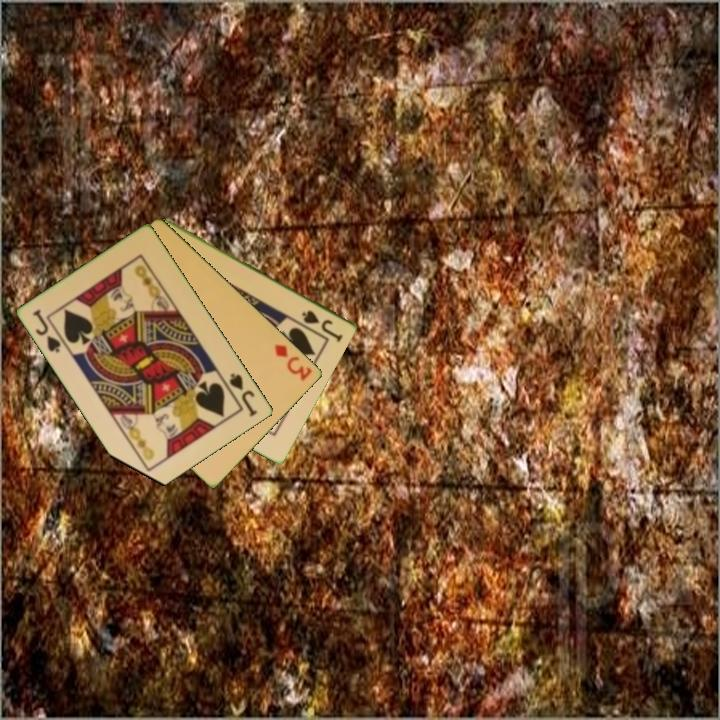3d: (271, 340, 316, 384)
Js: (298, 306, 346, 343), (29, 306, 64, 356), (226, 369, 260, 420)
